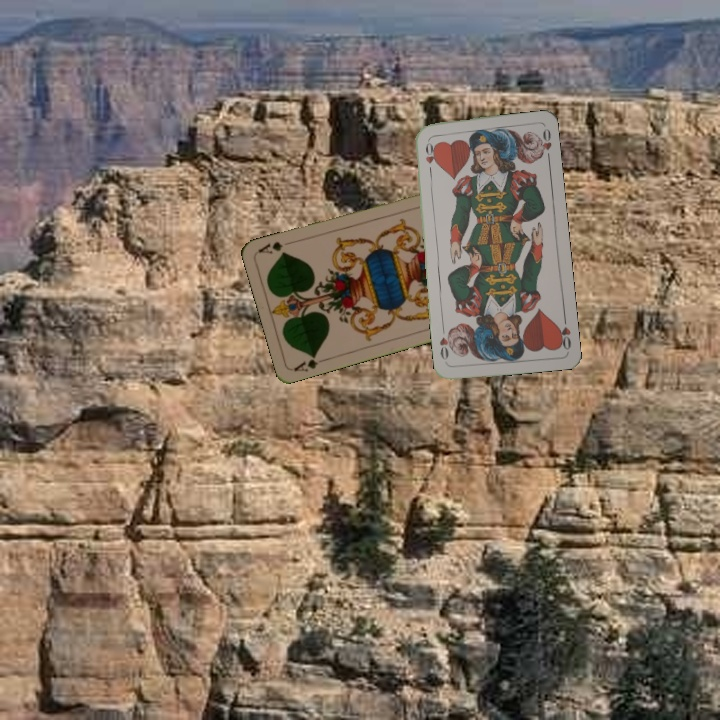GA: (290, 350, 330, 374)
HO: (554, 312, 574, 352), (421, 137, 436, 177)
